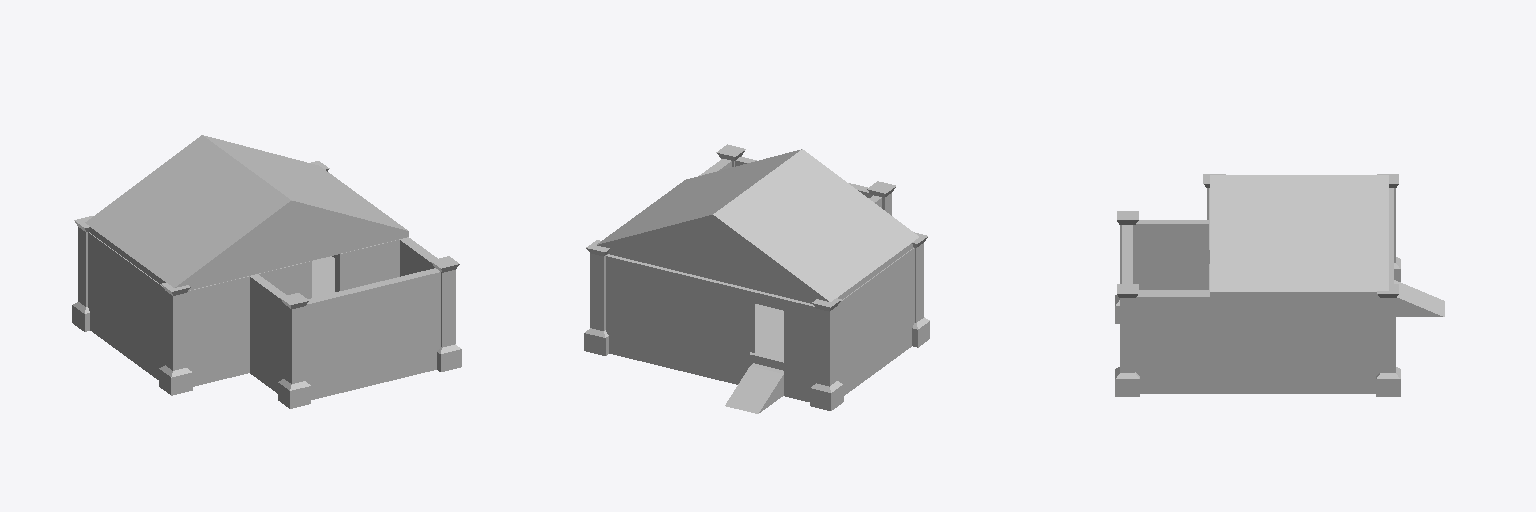
File: house1.obj
3 renders of one model, left to right at view 1: azimuth 30°, elevation 25°; view 2: azimuth 150°, elevation 25°; view 3: azimuth 270°, elevation 25°, orthographic.
Visible parts, largest first — view 1: Cube; view 2: Cube; view 3: Cube.
Boxes of the visible parts, x1=… form: Cube: x1=72, y1=135, x2=461, y2=408; Cube: x1=584, y1=144, x2=929, y2=413; Cube: x1=1115, y1=174, x2=1444, y2=396.
Size of the model in its own units: 6.57 by 4.12 by 7.58.